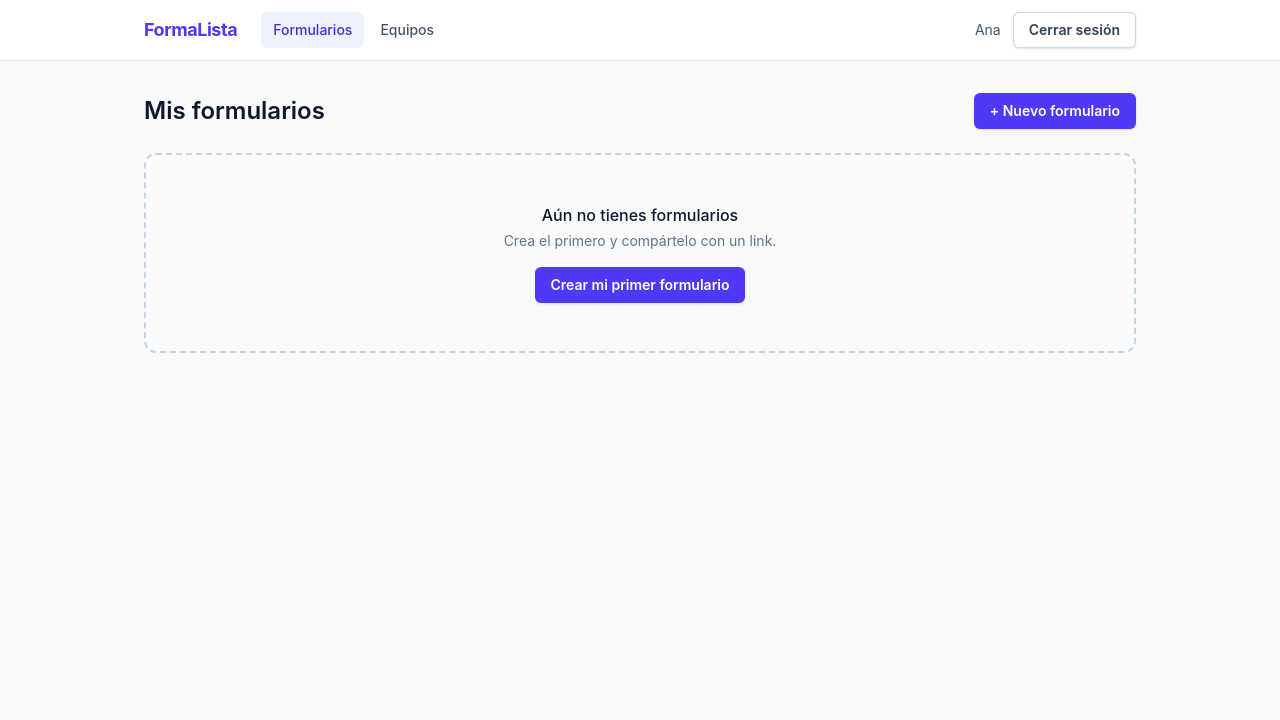
Scenario: Mis formularios: crear › el diálogo valida el título con el esquema compartido
Step 1. Click the button "+ Nuevo formulario" → (1055, 111), box [974,93,1136,129]
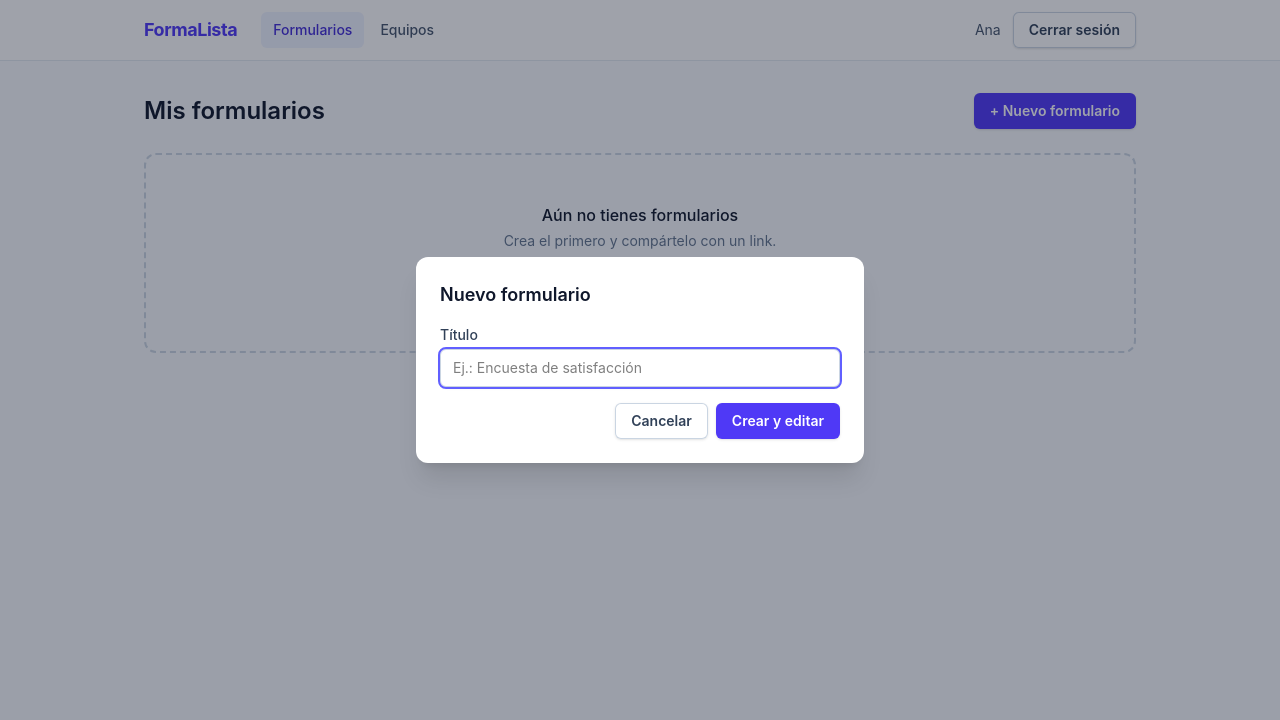
Step 2. Click the button "Crear y editar" → (778, 421), box [716,403,840,439]
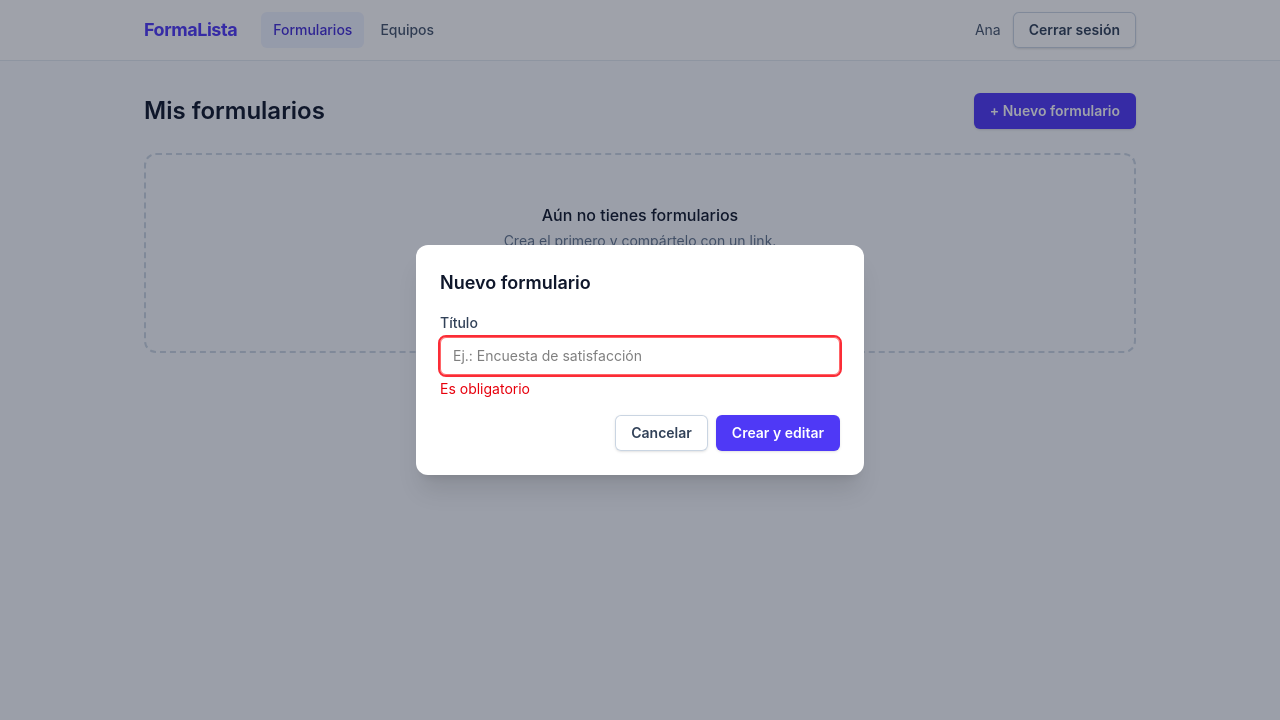
Check: the text "Es obligatorio" is shown, box [440,380,530,397]
